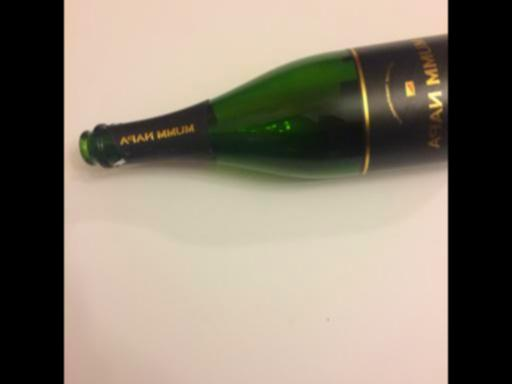alcohol: (77, 29, 447, 179)
glass: (77, 29, 447, 179)
sodocalcique: (77, 29, 447, 179)
